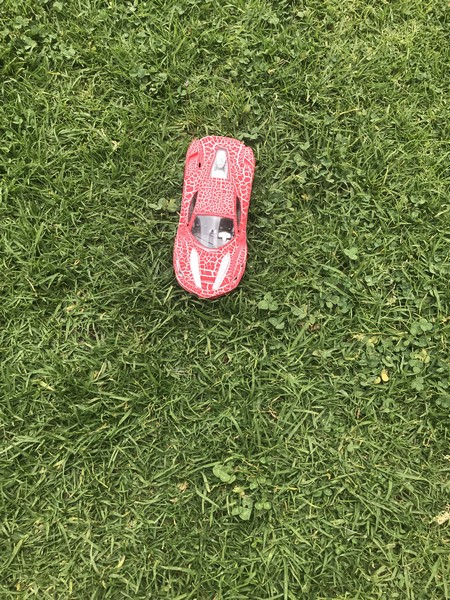RC: (172, 133, 254, 301)
